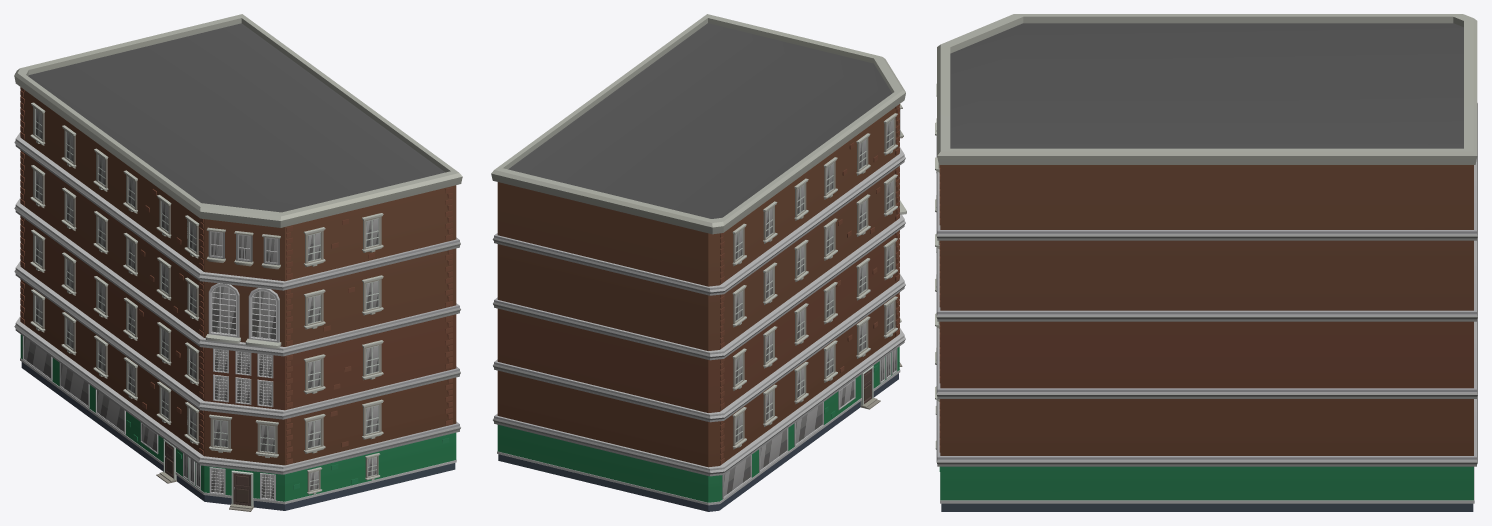
The model's file is Building_25_8_H.fbx.
The picture shows the model from 3 angles, left to right: view 1: azimuth 30°, elevation 25°; view 2: azimuth 150°, elevation 25°; view 3: azimuth 270°, elevation 25°; orthographic projection. The views are drawn at different scales.
Visible parts, largest first — view 1: Building_25_8_H; view 2: Building_25_8_H; view 3: Building_25_8_H.
Boxes of the visible parts, x1,y1,x2,y2 form: Building_25_8_H: (14,14,462,511); Building_25_8_H: (491,14,906,511); Building_25_8_H: (935,14,1477,511).
Size of the model in its own units: 1683 by 2014 by 2729.
